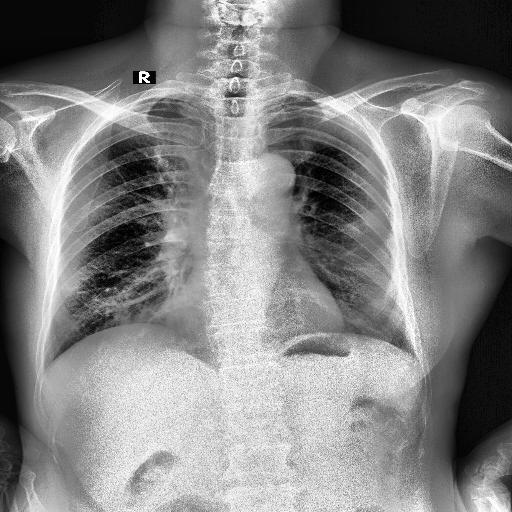0- Aortic enlargement: (242, 152, 296, 210), (246, 151, 296, 208), (244, 152, 294, 192)
